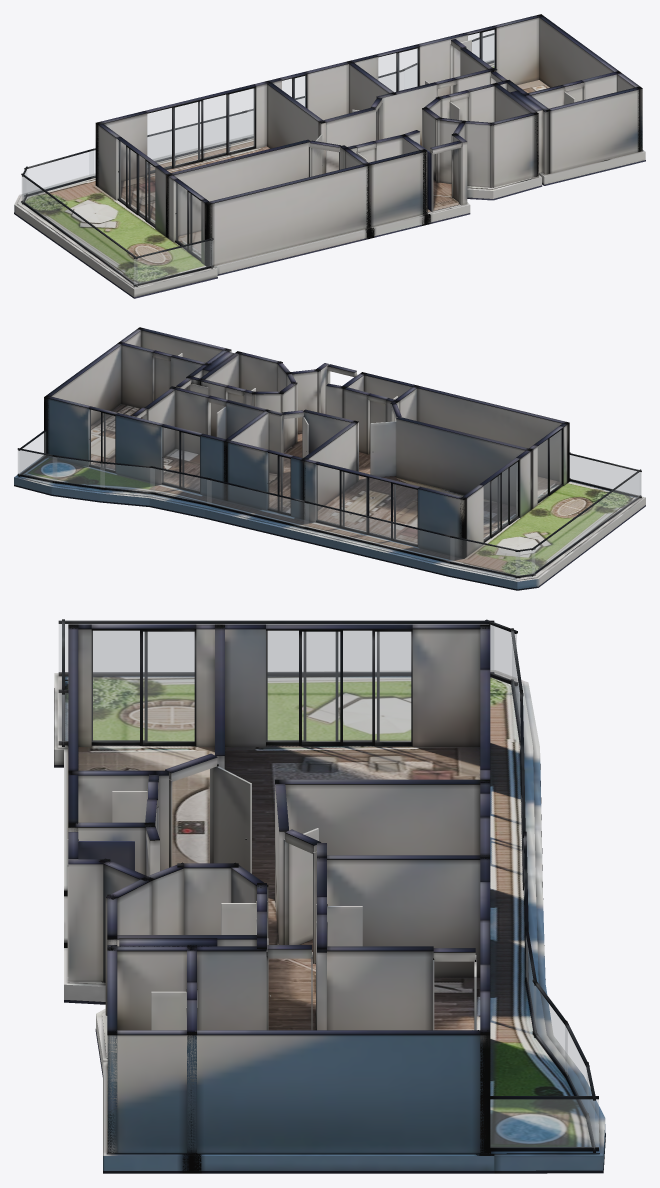
3 renders of one model, top to bottom at view 1: azimuth 30°, elevation 25°; view 2: azimuth 150°, elevation 25°; view 3: azimuth 270°, elevation 25°, orthographic. The views are drawn at different scales.
Parts seen in each view (by area): view 1: plan, glass0_m, railg10_m, railg16_m, railg5_m, glass1_m, railg17_m, glass4_m, glass2_m, glass5_m, glass3_m; view 2: plan, glass0_m, railg16_m, railg10_m, railg15_m, glass4_m, railg17_m, railg5_m, glass1_m, railg14_m, railg13_m, railg12_m (+6 smaller); view 3: plan, glass1_m, glass2_m, railg10_m, railg6_m, railg13_m, railg18_m, railg12_m.
Boxes of the visible parts, bbox=[...] form: plan: bbox=[14, 14, 645, 298]; glass0_m: bbox=[147, 88, 254, 171]; railg10_m: bbox=[22, 177, 137, 284]; railg16_m: bbox=[89, 113, 246, 176]; railg5_m: bbox=[134, 241, 212, 284]; glass1_m: bbox=[118, 140, 154, 224]; railg17_m: bbox=[25, 151, 93, 194]; glass4_m: bbox=[378, 48, 417, 91]; glass2_m: bbox=[176, 182, 200, 257]; glass5_m: bbox=[468, 30, 494, 67]; glass3_m: bbox=[282, 76, 305, 106]; plan: bbox=[14, 327, 645, 590]; glass0_m: bbox=[316, 465, 417, 543]; railg16_m: bbox=[305, 503, 454, 561]; railg10_m: bbox=[532, 472, 640, 573]; railg15_m: bbox=[207, 480, 308, 527]; glass4_m: bbox=[162, 427, 199, 491]; railg17_m: bbox=[450, 538, 519, 575]; railg5_m: bbox=[570, 455, 641, 495]; glass1_m: bbox=[484, 462, 517, 540]; railg14_m: bbox=[151, 468, 210, 503]; railg13_m: bbox=[100, 463, 154, 491]; railg12_m: bbox=[53, 457, 104, 487]; plan: bbox=[54, 619, 605, 1173]; glass1_m: bbox=[266, 631, 410, 741]; glass2_m: bbox=[92, 631, 194, 741]; railg10_m: bbox=[59, 624, 493, 672]; railg6_m: bbox=[490, 1099, 598, 1147]; railg13_m: bbox=[534, 985, 567, 1074]; railg18_m: bbox=[490, 625, 516, 682]; railg12_m: bbox=[565, 1026, 588, 1112].
Size of the model in its own units: 19.94 by 2.62 by 9.56.
2 materials, 1 textured.
